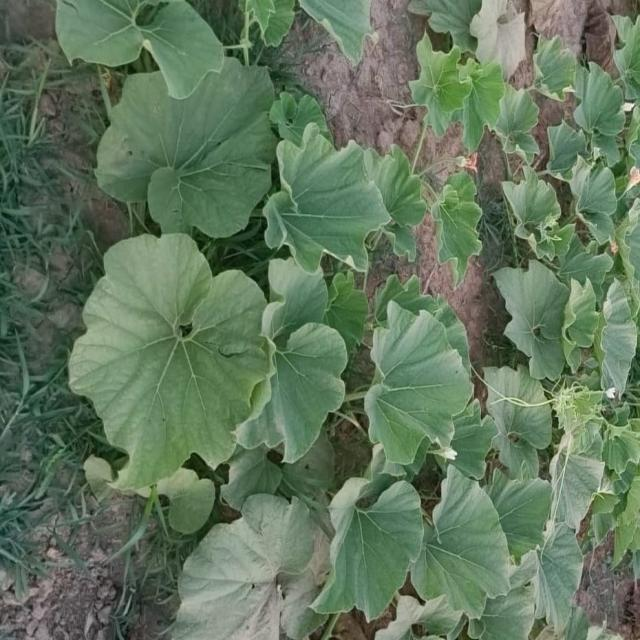plant: (58, 0, 640, 638)
